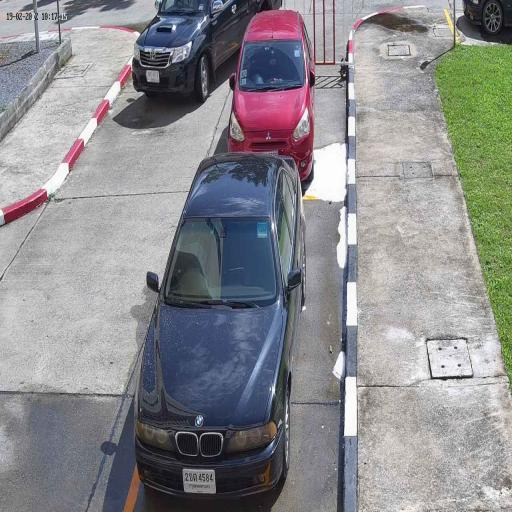car: (132, 150, 308, 504), (131, 0, 286, 107), (226, 8, 316, 184)
